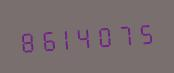eight: (17, 24, 36, 56)
five: (137, 16, 156, 48)
four: (77, 20, 96, 52)
one: (57, 22, 76, 53)
seven: (117, 17, 136, 49)
six: (37, 23, 56, 55)
zero: (97, 19, 116, 50)
